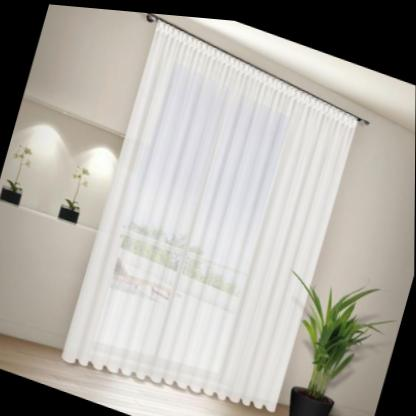Curtains: (61, 19, 362, 407)
Wooden floor: (0, 334, 291, 416)
